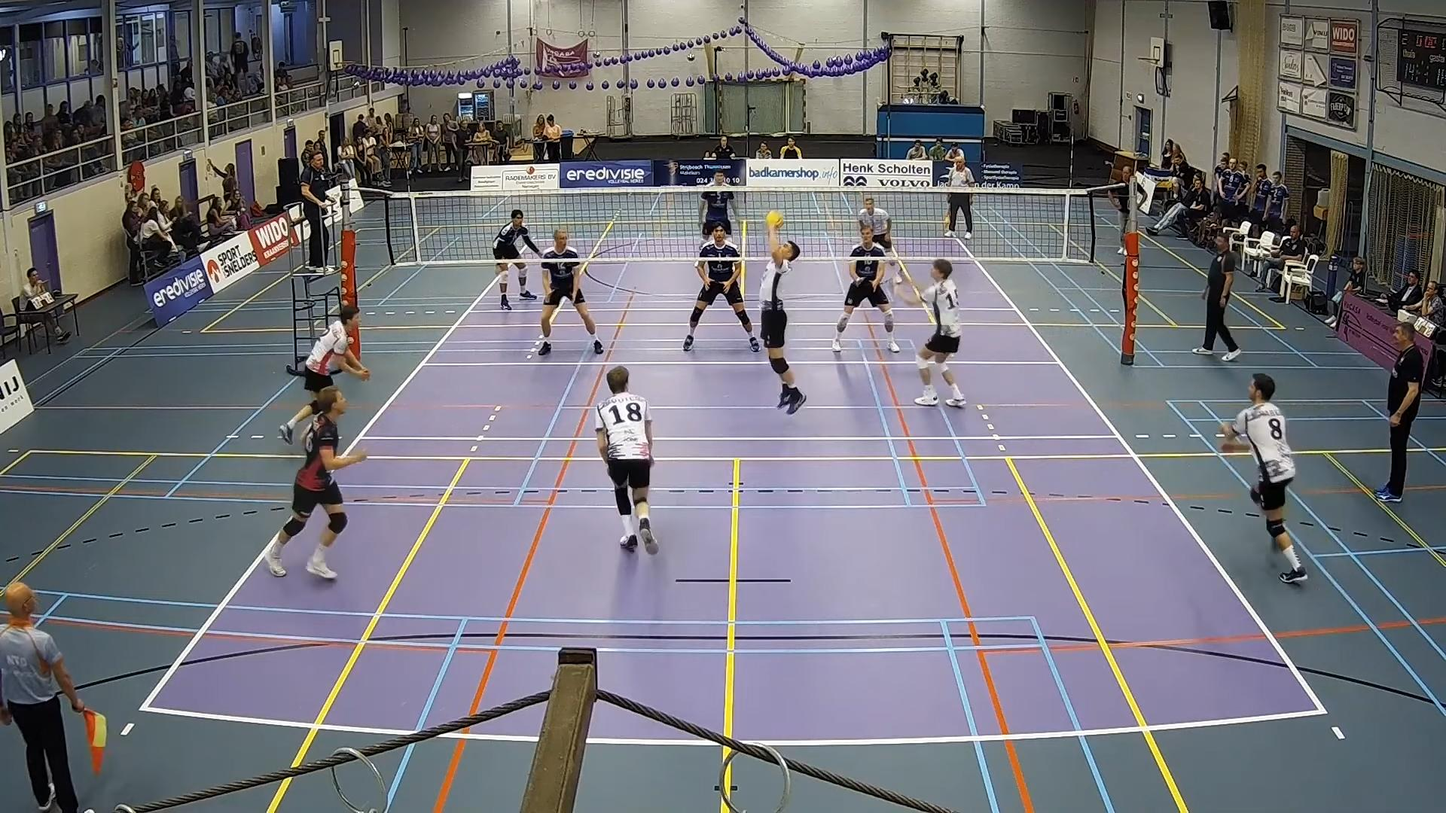Player: (264, 386, 367, 579), (1222, 373, 1307, 583), (280, 305, 370, 443), (595, 366, 657, 553), (896, 259, 965, 406), (682, 224, 760, 352), (831, 225, 899, 352), (538, 230, 602, 355), (493, 210, 541, 309), (700, 170, 736, 236), (858, 196, 892, 252)
Set: (749, 225, 817, 419)
ball: (765, 212, 790, 228)
